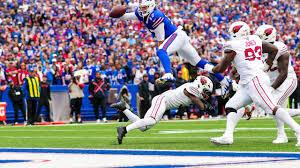americanFootball: (109, 4, 127, 18)
